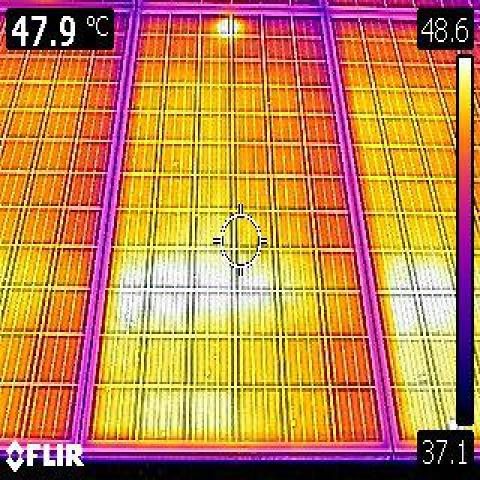fault: (111, 241, 213, 336), (389, 258, 449, 333), (214, 14, 244, 40)
